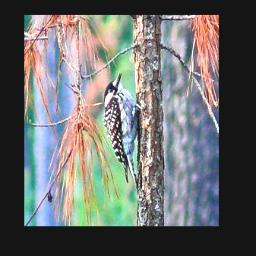Woodpecker: (97, 66, 152, 197)
